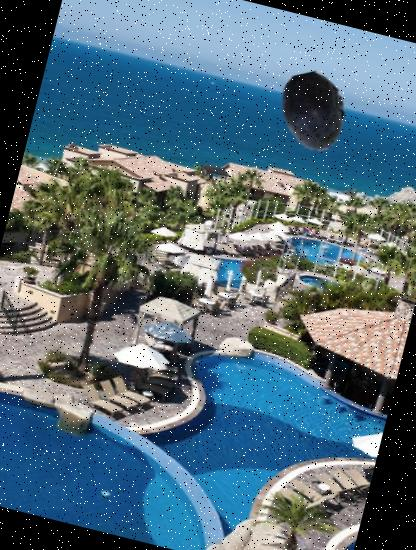Blueberry: (266, 64, 362, 161)
